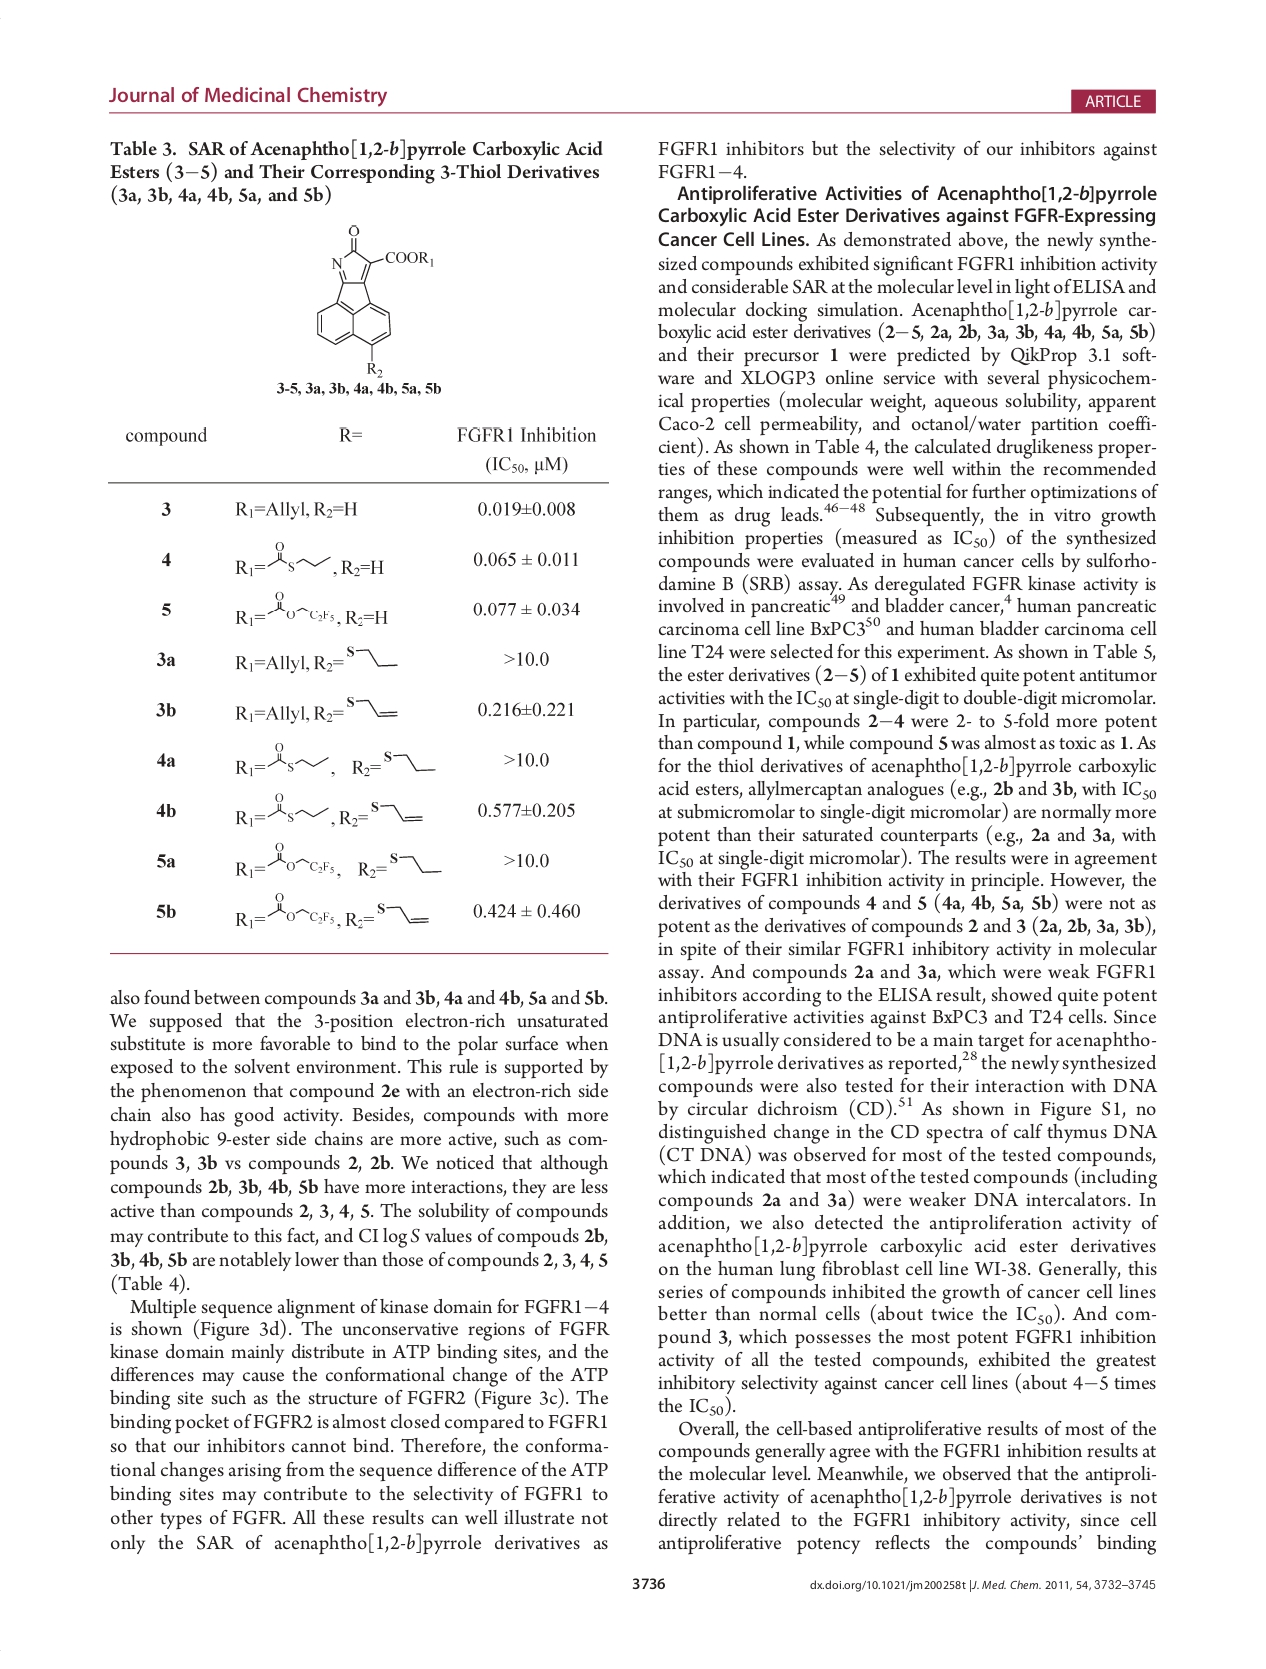exist_molecular: (313, 219, 438, 380), (265, 891, 336, 927), (266, 537, 332, 576), (265, 586, 334, 622), (265, 738, 328, 775), (265, 842, 332, 876), (266, 790, 328, 821), (344, 641, 402, 673), (344, 694, 403, 723), (368, 797, 426, 826), (382, 747, 435, 777), (390, 848, 443, 876), (375, 900, 434, 926)
